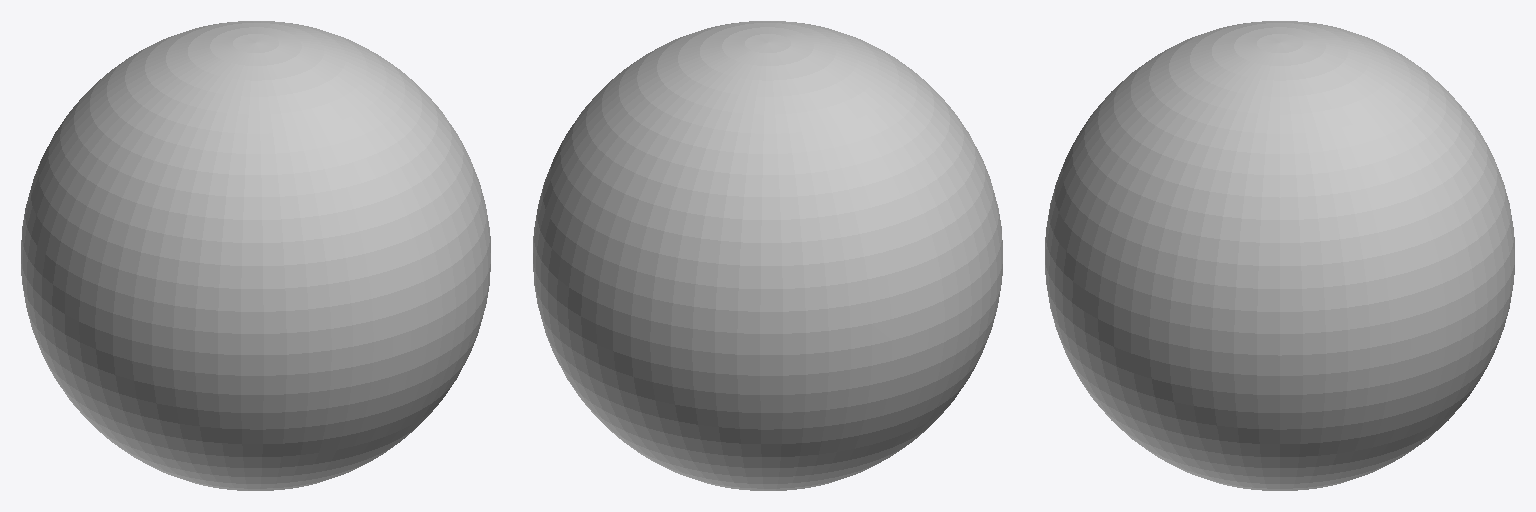
Rendered from jupiter.obj.
3 views of the same model, side by side, from view 1: azimuth 30°, elevation 25°; view 2: azimuth 150°, elevation 25°; view 3: azimuth 270°, elevation 25° (orthographic).
Parts seen in each view (by area): view 1: Esfera_UV; view 2: Esfera_UV; view 3: Esfera_UV.
Part boxes in pixels (x1,y1,x2,y2): Esfera_UV: (21, 21, 490, 490); Esfera_UV: (533, 21, 1002, 490); Esfera_UV: (1045, 21, 1514, 490).
Size of the model in its own units: 22.4 by 22.4 by 22.4.